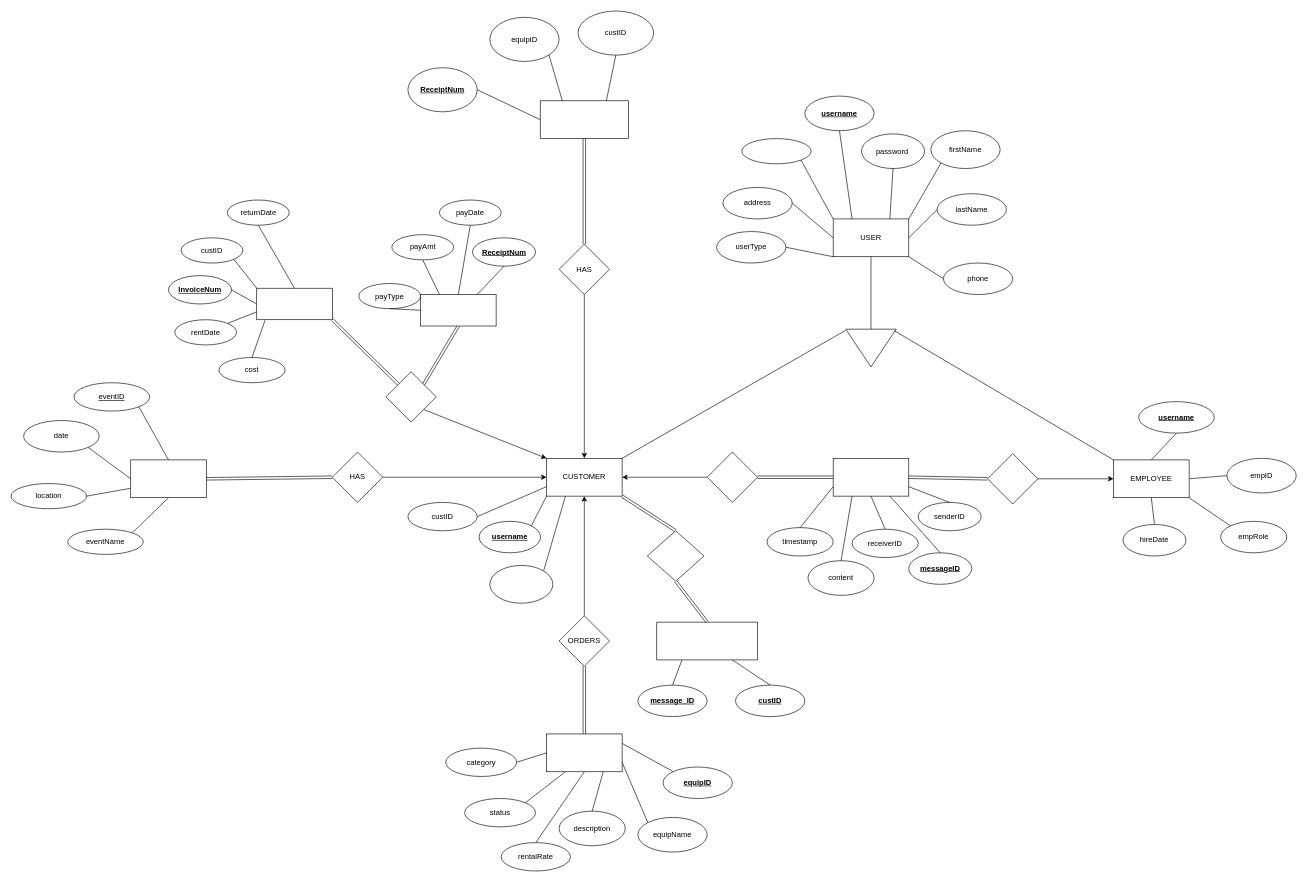
The diagram is 1307 pixels wide and 882 high, and some of its shapes have lost their labels. The shapes that lost their labels are listed below. From the top down, each one's centre as x and y in pixels, then its label:
the point at 584,119: TRANSACTION
the point at 776,151: email
the point at 294,304: INVOICE
the point at 458,310: RECEIPT
the point at 870,348: IS A
the point at 410,396: GET
the point at 168,478: EVENT
the point at 732,476: SENDS
the point at 871,477: MESSAGE
the point at 1012,478: RESPONDS
the point at 675,555: TRANSMITS
the point at 521,584: accountBalance
the point at 707,640: CUSTOMER_MESSAGE
the point at 584,752: EQUIPMENT
